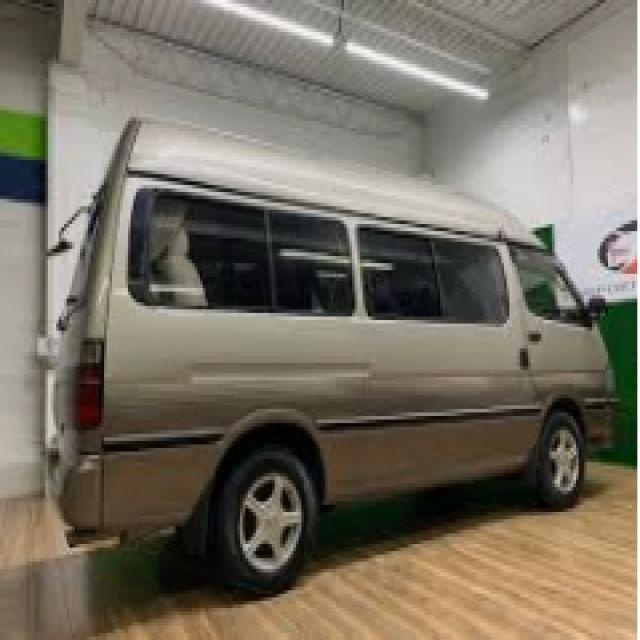Van: (50, 109, 621, 594)
